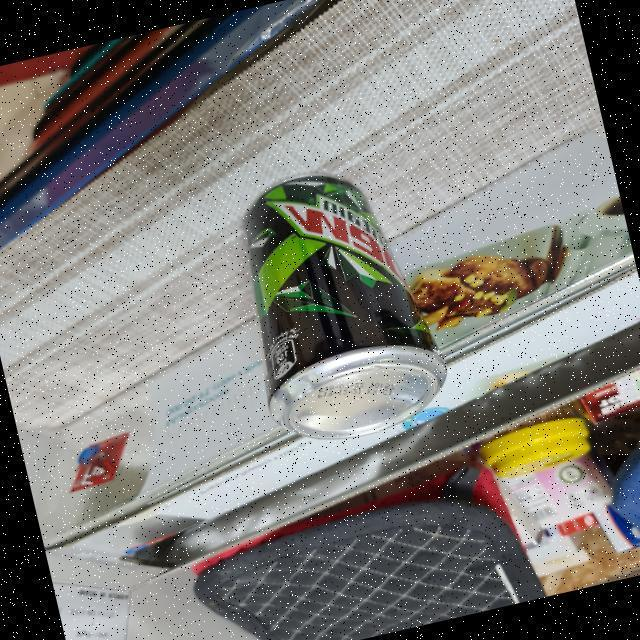can: (212, 150, 458, 460)
